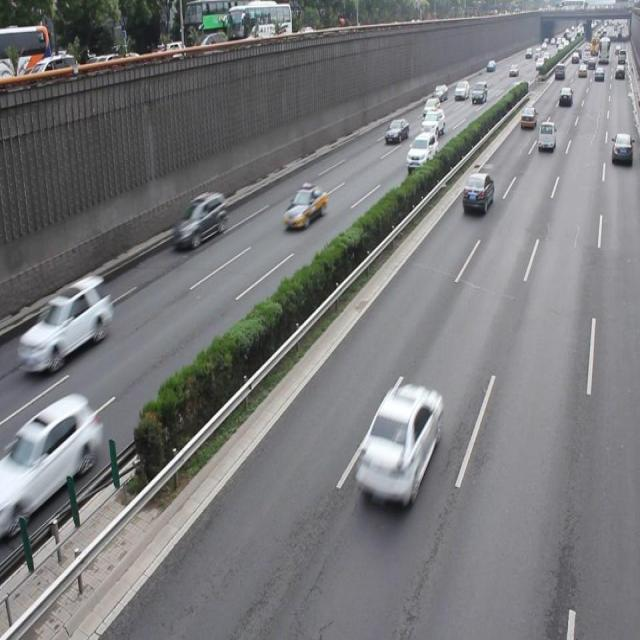car: (0, 392, 100, 522), (352, 384, 440, 507), (28, 273, 112, 372), (172, 191, 226, 249), (282, 182, 327, 228), (461, 170, 494, 216), (404, 132, 437, 174)
